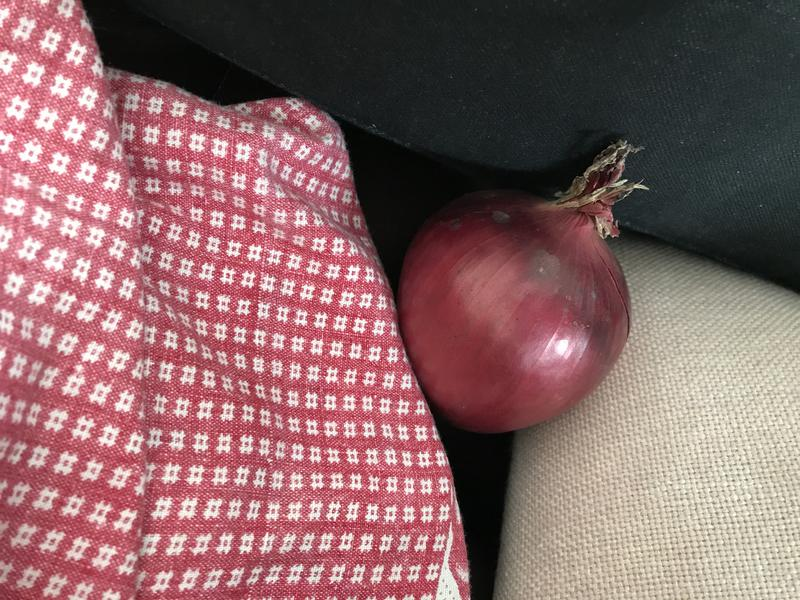purple_onion: (357, 122, 669, 452)
